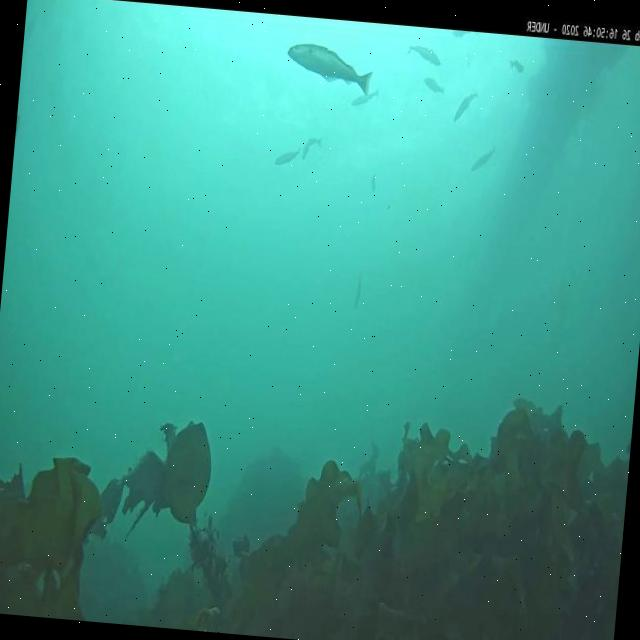fish: (286, 40, 372, 94), (454, 88, 479, 121), (406, 44, 441, 66), (470, 144, 496, 172), (352, 86, 377, 109), (274, 146, 298, 168), (352, 268, 363, 310), (422, 78, 444, 96), (302, 137, 321, 157), (370, 166, 380, 192), (508, 60, 524, 74)
